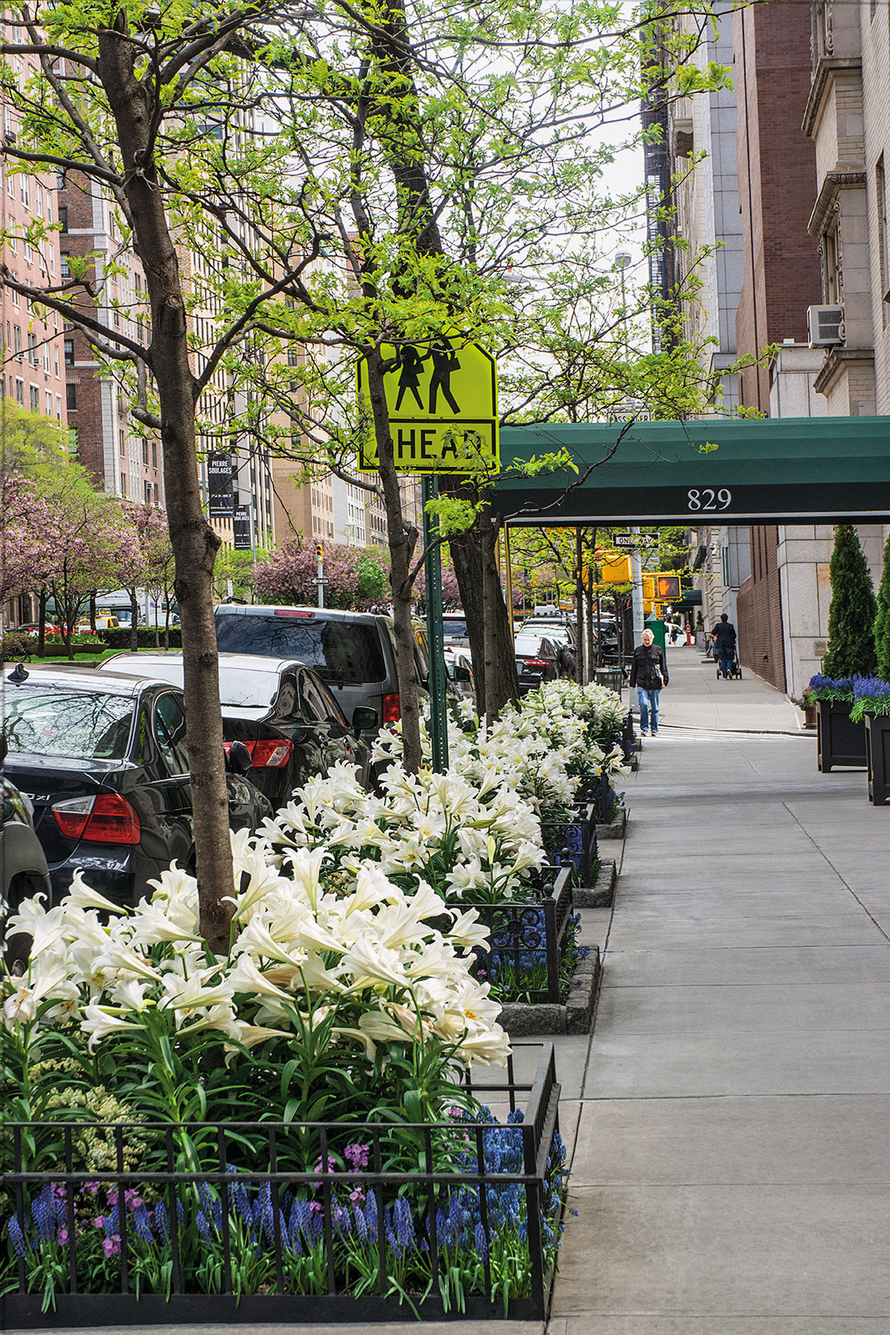Tree: (0, 0, 448, 1009)
